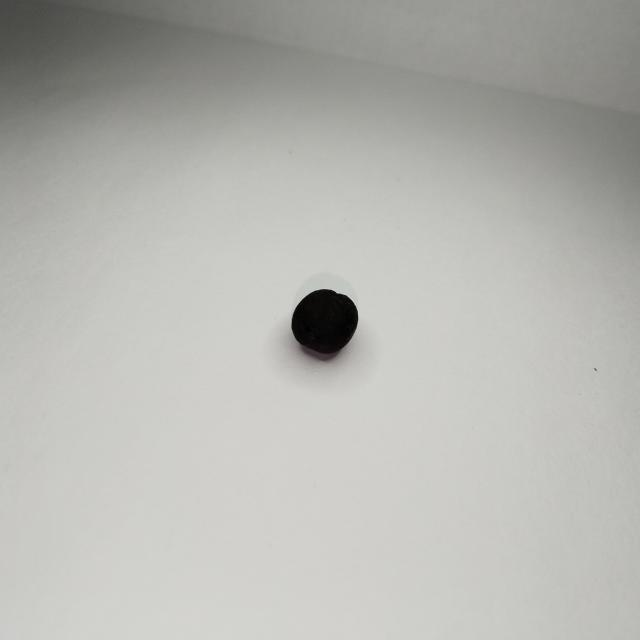Danado: (292, 288, 359, 358)
